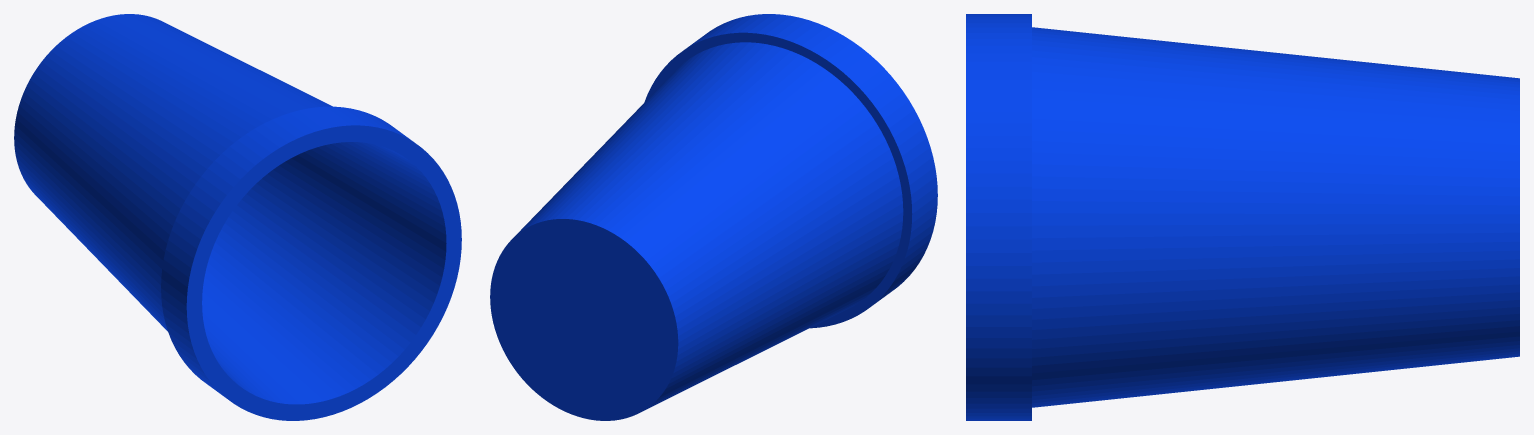
The model's file is cup_blue.obj.
The picture shows the model from 3 angles, left to right: view 1: azimuth 30°, elevation 25°; view 2: azimuth 150°, elevation 25°; view 3: azimuth 270°, elevation 25°; orthographic projection. The views are drawn at different scales.
Visible parts, largest first — view 1: cup_blue; view 2: cup_blue; view 3: cup_blue.
Boxes of the visible parts, x1,y1,x2,y2 form: cup_blue: (14, 14, 461, 420); cup_blue: (490, 14, 937, 420); cup_blue: (966, 14, 1519, 420).
Bounding box in the file's own units: 0.068 × 0.068 × 0.0925.
